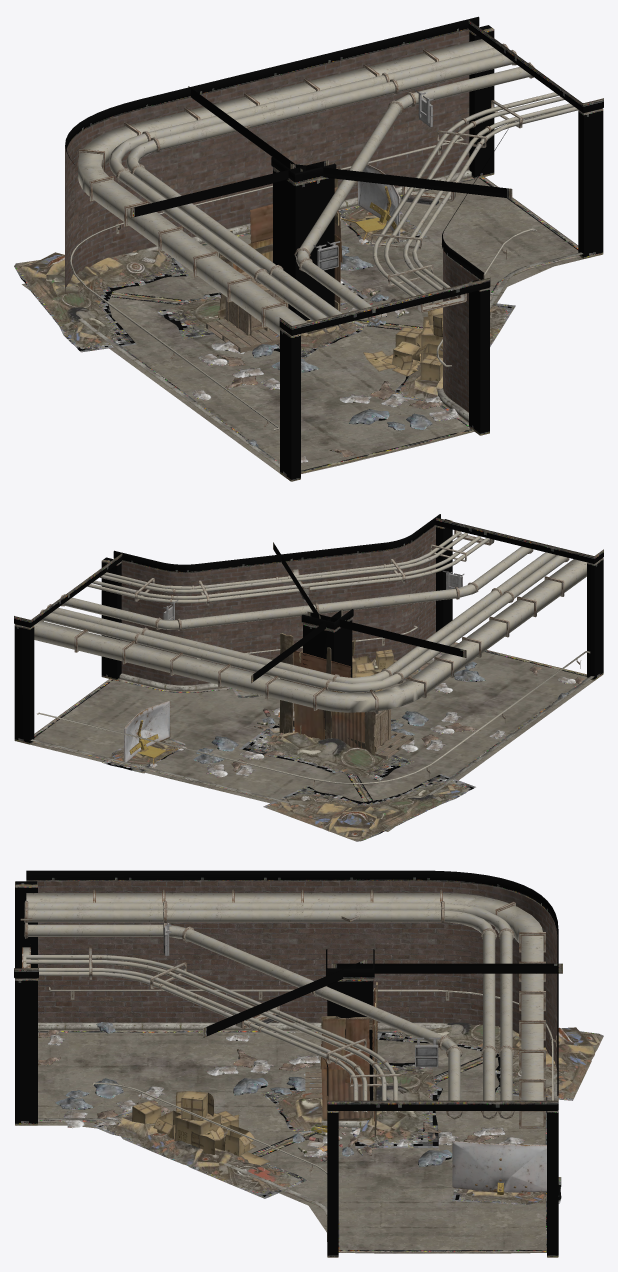
Rendered from link-corner-a-9m.glb.
The picture shows the model from 3 angles, top to bottom: view 1: azimuth 30°, elevation 25°; view 2: azimuth 150°, elevation 25°; view 3: azimuth 270°, elevation 25°; orthographic projection. The views are drawn at different scales.
Parts seen in each view (by area): view 1: corridor_corner_a_9m_LOD0, junk_pile_Lshape_b, cardboard_box_pile_a, ground_cloth_a (2), scientist_cover_a_LOD0, junk_pile_straight_b, ground_cloth_a (1), junk_pile_straight_a, cover_a_LOD0, pallet_stacks_c, junk_pile_a, junk_pile_a (1) (+1 smaller); view 2: corridor_corner_a_9m_LOD0, junk_pile_Lshape_b, cover_a_LOD0, junk_pile_straight_b, scientist_cover_a_LOD0, ground_cloth_a, ground_cloth_a (1), junk_pile_a (1), ground_cloth_a (2), pallet_stacks_c, wooden_crate_a, cardboard_box_pile_a; view 3: corridor_corner_a_9m_LOD0, junk_pile_straight_a, junk_pile_Lshape_b, scientist_cover_a_LOD0, junk_pile_straight_b, cardboard_box_pile_a, cover_e_LOD0, ground_cloth_a (1), ground_cloth_a (2), junk_pile_a, ground_cloth_a, junk_pile_a (1) (+3 smaller).
Boxes of the visible parts, x1=… form: corridor_corner_a_9m_LOD0: x1=22, y1=16, x2=603, y2=481; junk_pile_Lshape_b: x1=14, y1=249, x2=189, y2=352; cardboard_box_pile_a: x1=363, y1=303, x2=442, y2=376; ground_cloth_a (2): x1=339, y1=381, x2=459, y2=430; scientist_cover_a_LOD0: x1=340, y1=164, x2=400, y2=244; junk_pile_straight_b: x1=157, y1=277, x2=367, y2=339; ground_cloth_a (1): x1=198, y1=341, x2=318, y2=389; junk_pile_straight_a: x1=395, y1=303, x2=515, y2=401; cover_a_LOD0: x1=217, y1=168, x2=338, y2=319; pallet_stacks_c: x1=206, y1=319, x2=279, y2=353; junk_pile_a: x1=273, y1=320, x2=365, y2=359; junk_pile_a (1): x1=339, y1=207, x2=427, y2=246; corridor_corner_a_9m_LOD0: x1=14, y1=514, x2=603, y2=831; junk_pile_Lshape_b: x1=263, y1=774, x2=475, y2=841; cover_a_LOD0: x1=279, y1=633, x2=376, y2=755; junk_pile_straight_b: x1=239, y1=724, x2=414, y2=780; scientist_cover_a_LOD0: x1=124, y1=701, x2=186, y2=767; ground_cloth_a: x1=193, y1=736, x2=287, y2=777; ground_cloth_a (1): x1=391, y1=711, x2=480, y2=752; junk_pile_a (1): x1=102, y1=738, x2=185, y2=773; ground_cloth_a (2): x1=420, y1=653, x2=485, y2=693; pallet_stacks_c: x1=365, y1=730, x2=413, y2=759; wooden_crate_a: x1=374, y1=709, x2=390, y2=747; cardboard_box_pile_a: x1=352, y1=637, x2=383, y2=692; corridor_corner_a_9m_LOD0: x1=14, y1=870, x2=562, y2=1257; junk_pile_straight_a: x1=92, y1=1110, x2=307, y2=1198; junk_pile_Lshape_b: x1=377, y1=1022, x2=603, y2=1100; scientist_cover_a_LOD0: x1=452, y1=1141, x2=546, y2=1194; junk_pile_straight_b: x1=351, y1=1061, x2=442, y2=1148; cardboard_box_pile_a: x1=153, y1=1091, x2=269, y2=1165; cover_e_LOD0: x1=320, y1=1016, x2=374, y2=1120; ground_cloth_a (1): x1=206, y1=1049, x2=321, y2=1095; ground_cloth_a (2): x1=55, y1=1078, x2=171, y2=1130; junk_pile_a: x1=260, y1=1087, x2=344, y2=1133; ground_cloth_a: x1=396, y1=1122, x2=525, y2=1166; junk_pile_a (1): x1=451, y1=1177, x2=561, y2=1204.
Size of the model in its own units: 12.41 by 3.89 by 12.75.
Materials: 16 (16 with a texture image).
